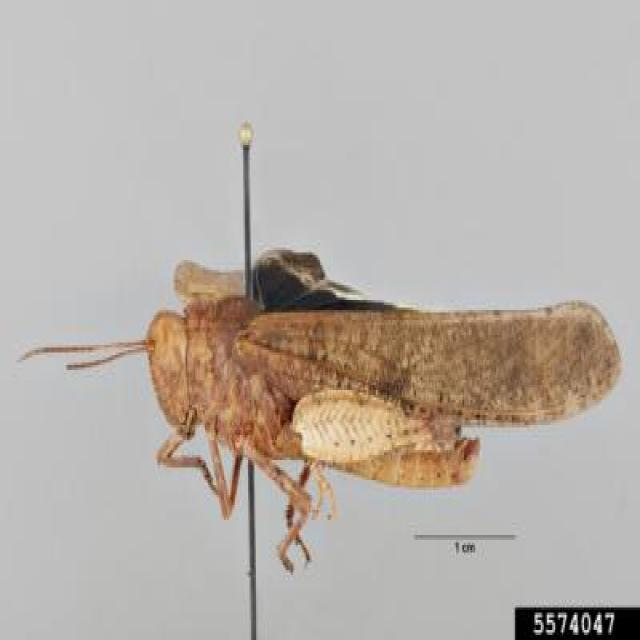antennae: (21, 341, 158, 361), (66, 345, 148, 373)
body: (148, 311, 480, 477)
insect: (15, 254, 622, 568)
legs: (242, 441, 311, 576), (156, 412, 219, 496), (208, 414, 246, 516), (287, 461, 313, 564)
mouthpart: (174, 397, 197, 439)
wings: (234, 303, 621, 422)
